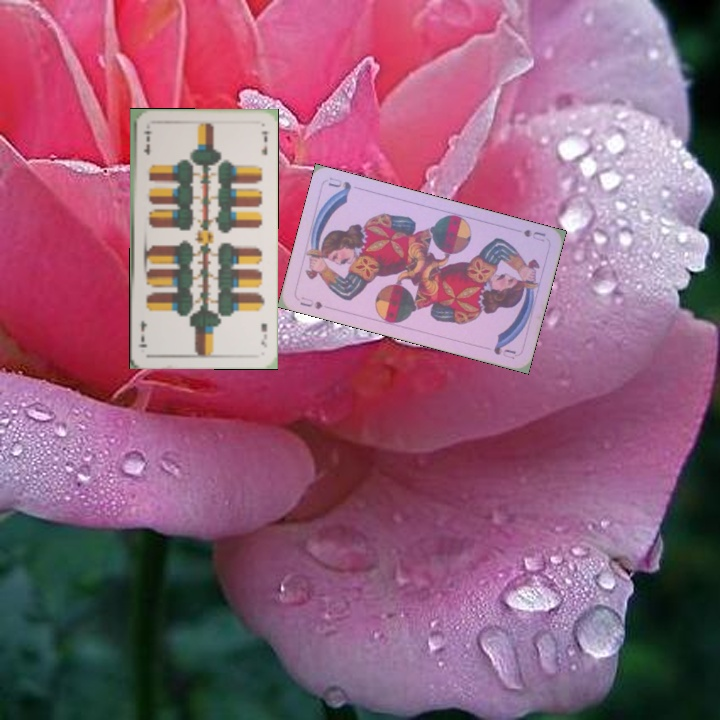E7: (139, 127, 153, 157), (257, 319, 270, 350)
SU: (296, 292, 325, 312), (519, 225, 548, 244)
